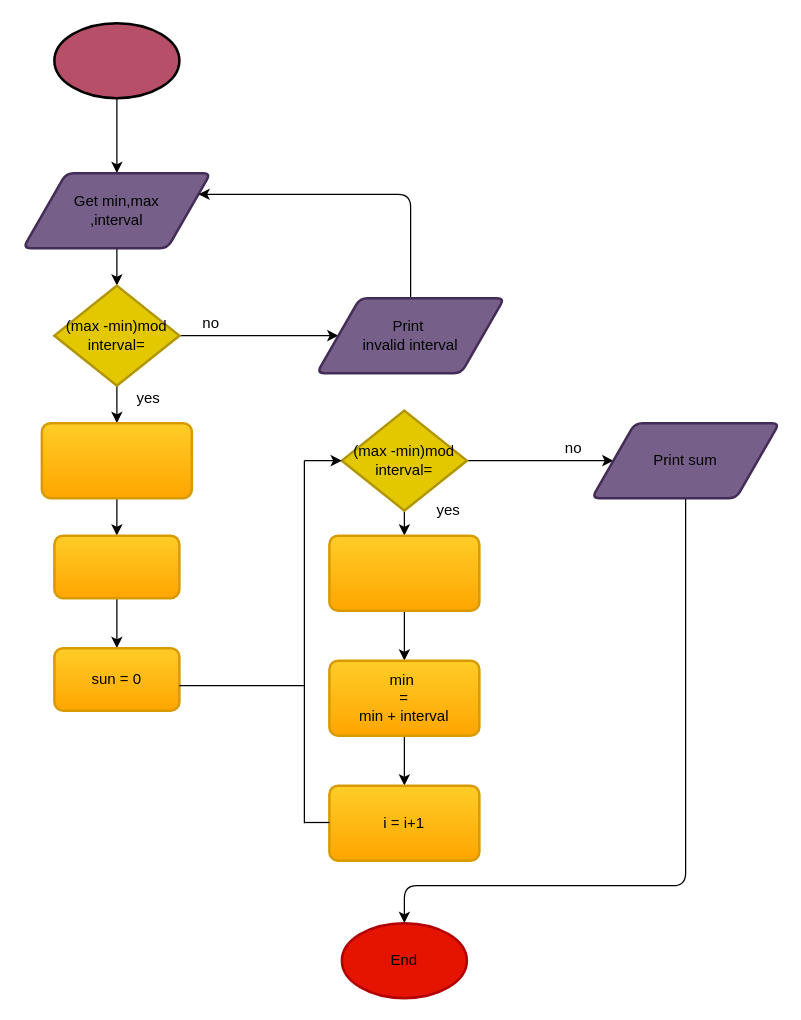
Image size: 801x1020. Some labels were removed from this diagram. The centre of each missing label's shape, as x and y in pixels:
"i = 1" goes at (116,566).
"n = (max-min)/interview" goes at (116,460).
"start" goes at (116,60).
"sum = sum + min" goes at (404,572).
